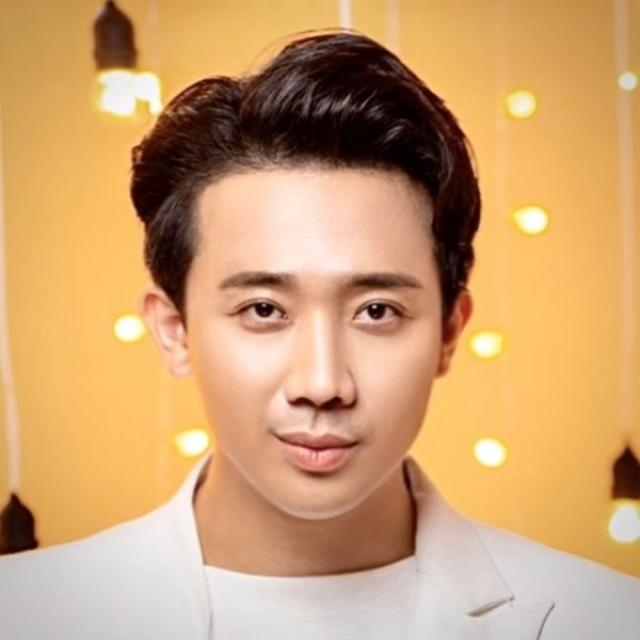Nonhelmet: (122, 19, 483, 522)
